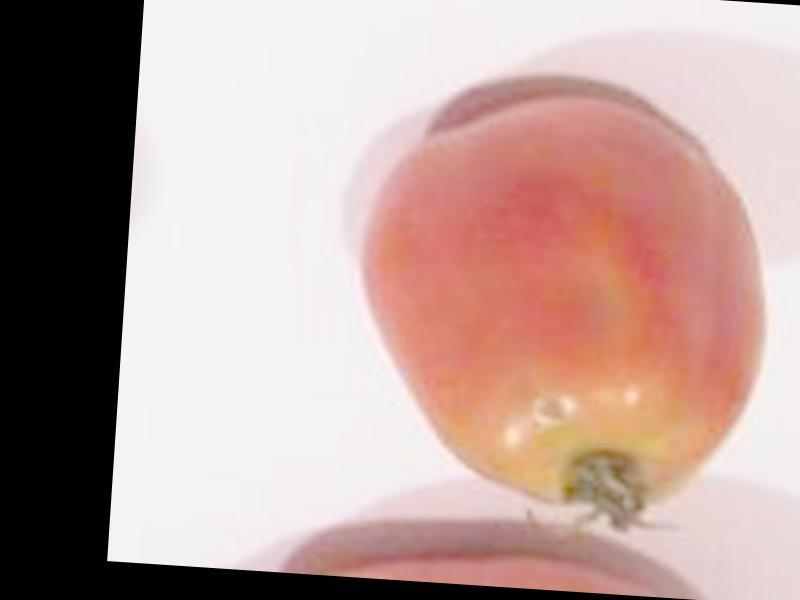Tomato: (347, 92, 777, 523)
